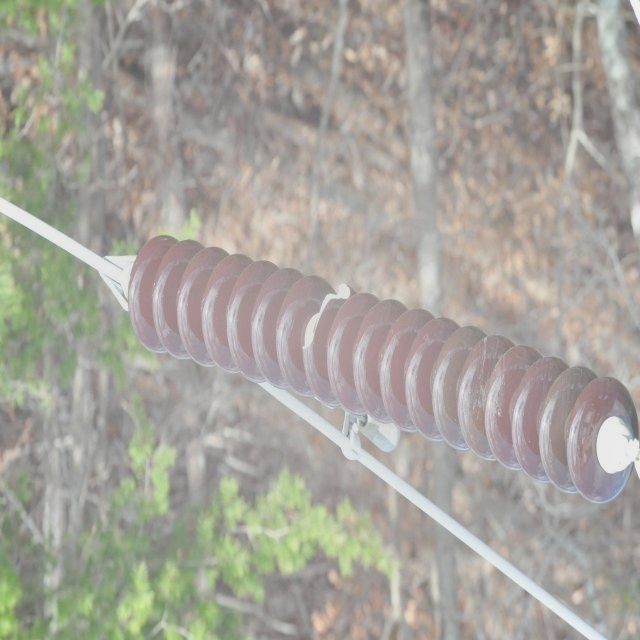broken: (301, 276, 355, 352)
insulator: (127, 233, 636, 501)
